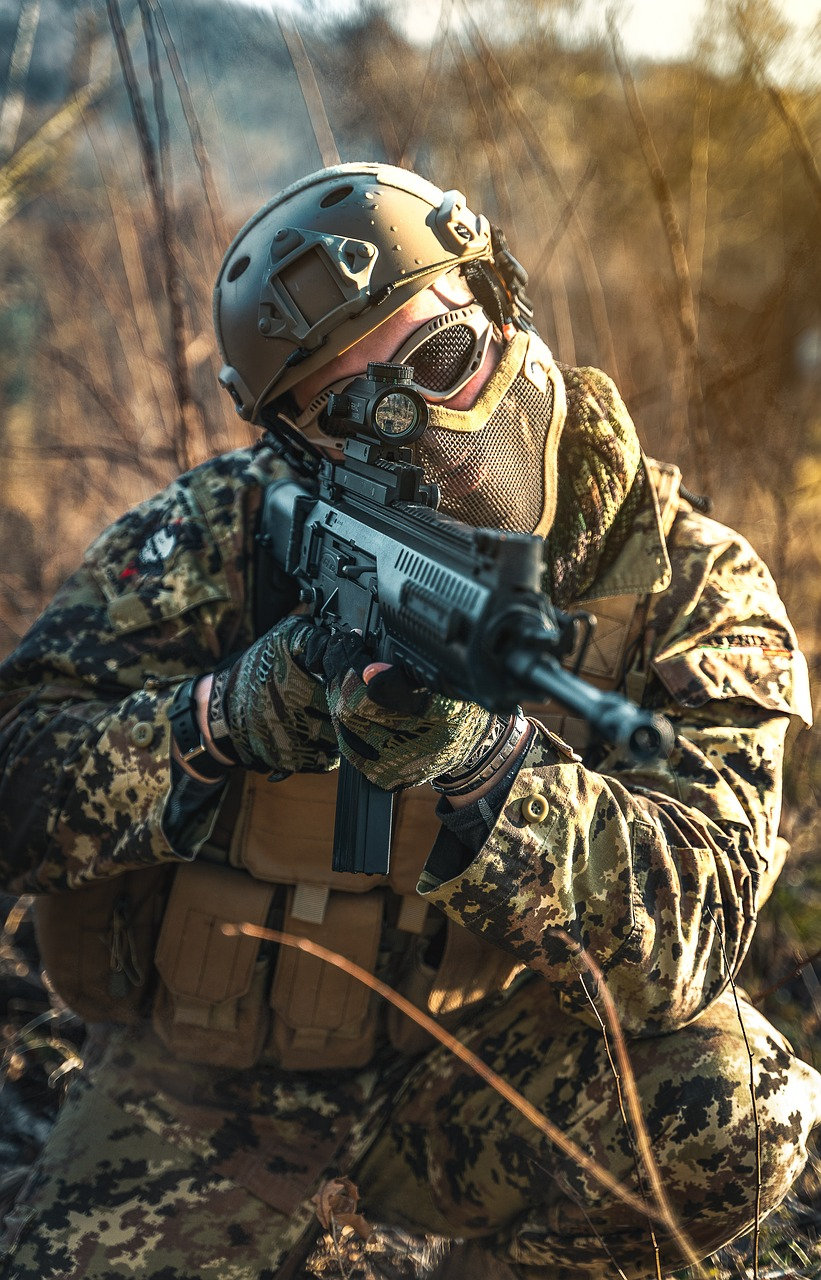gun: (239, 350, 672, 884)
